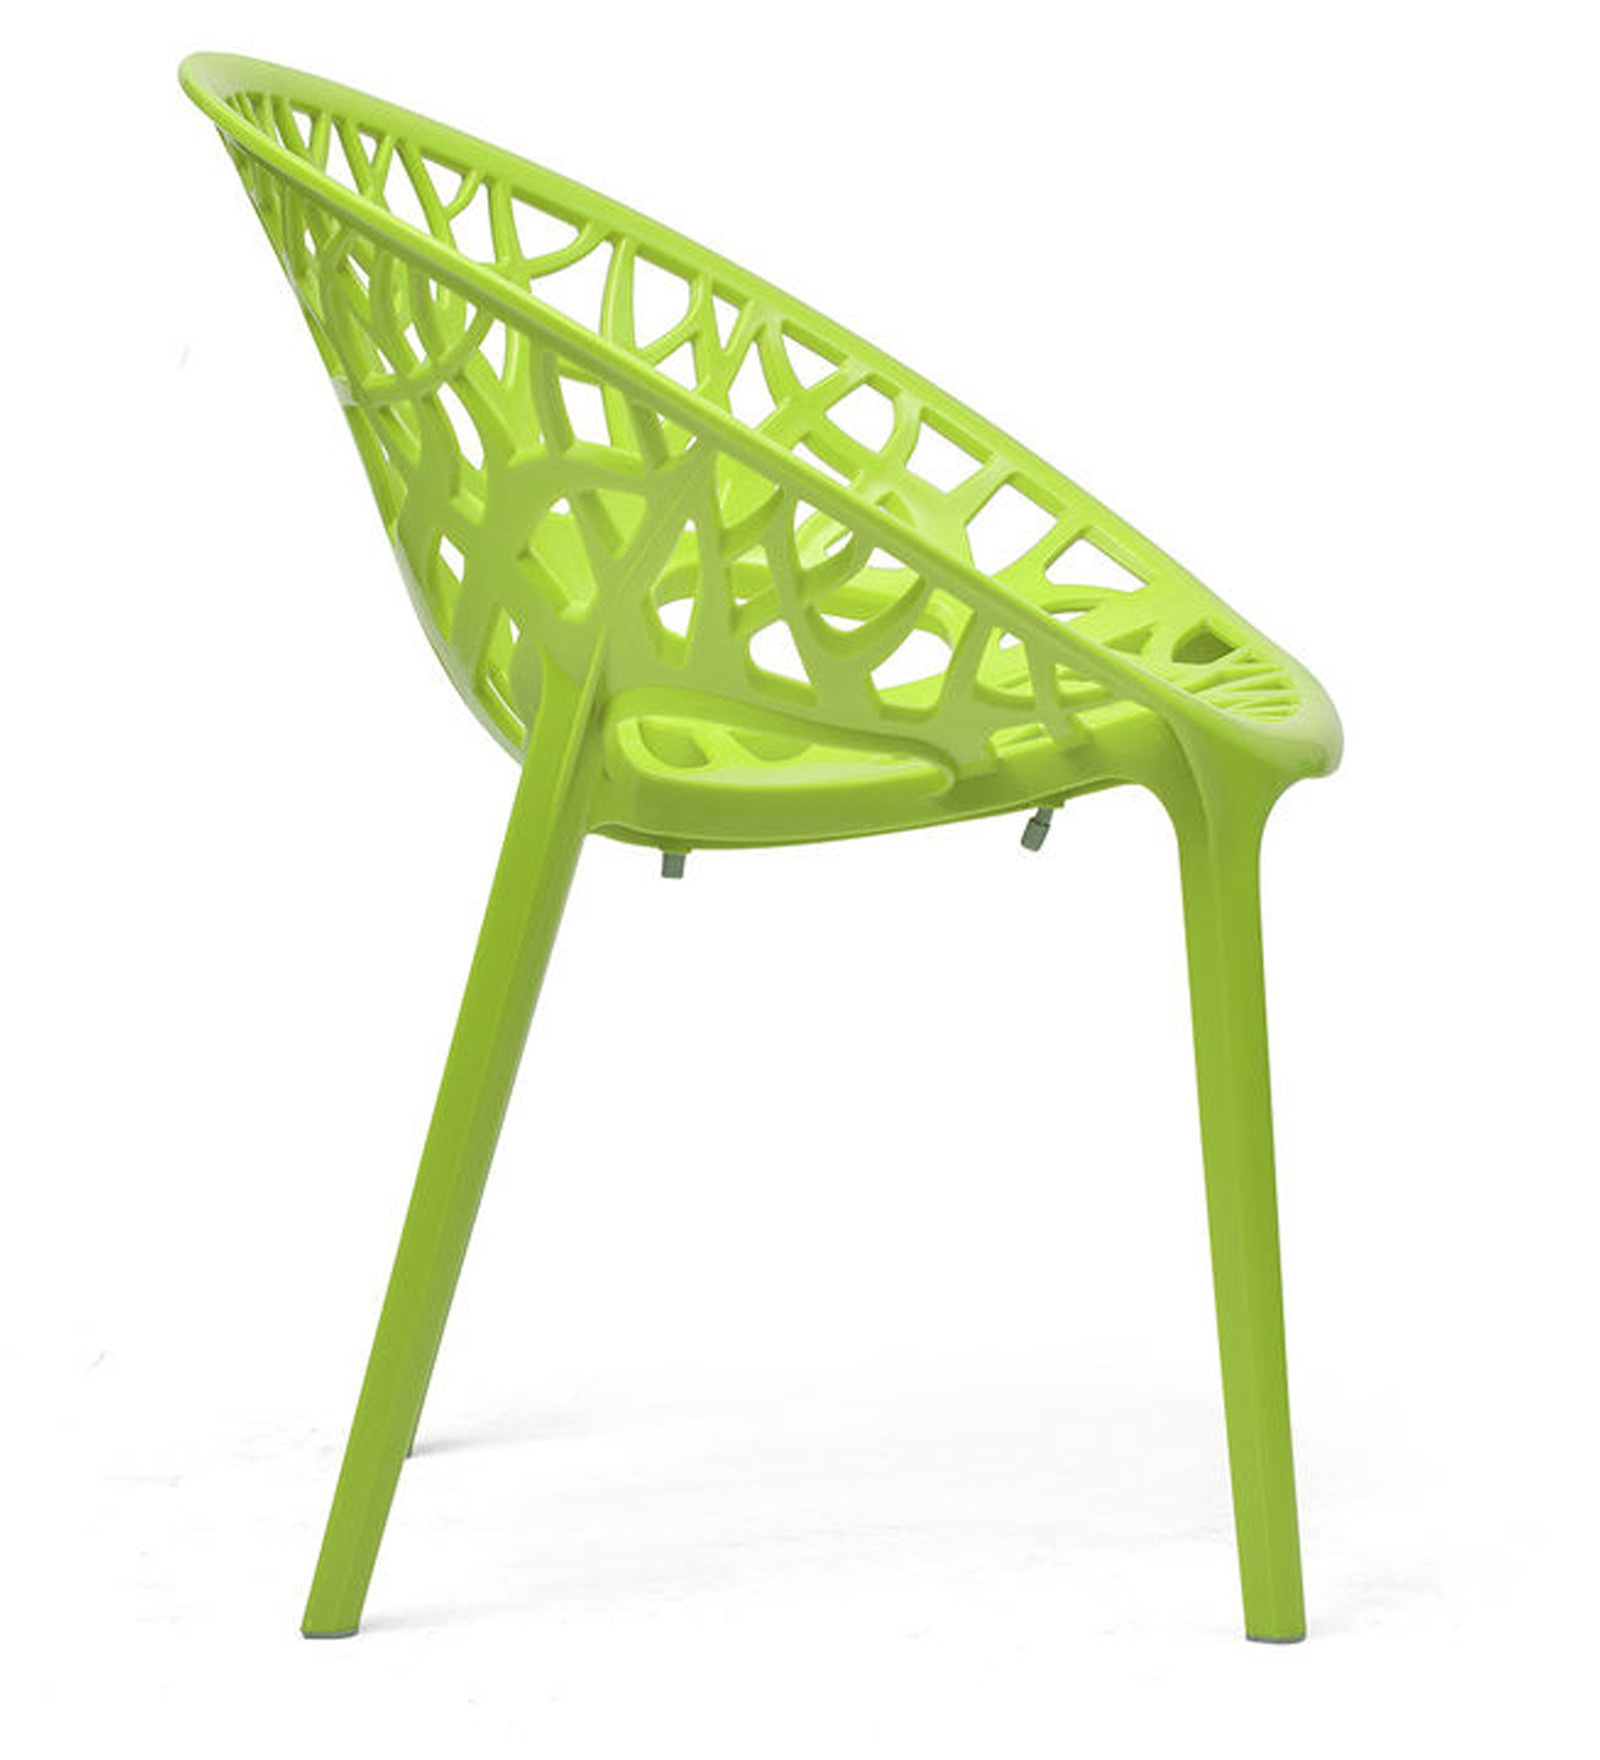Crystal Designer Chair in Lime Green Colour by Nilkamal: (123, 35, 1392, 1716)
